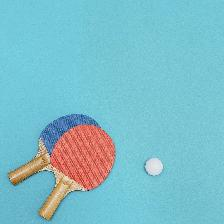WhiteBall: (144, 157, 163, 176)
